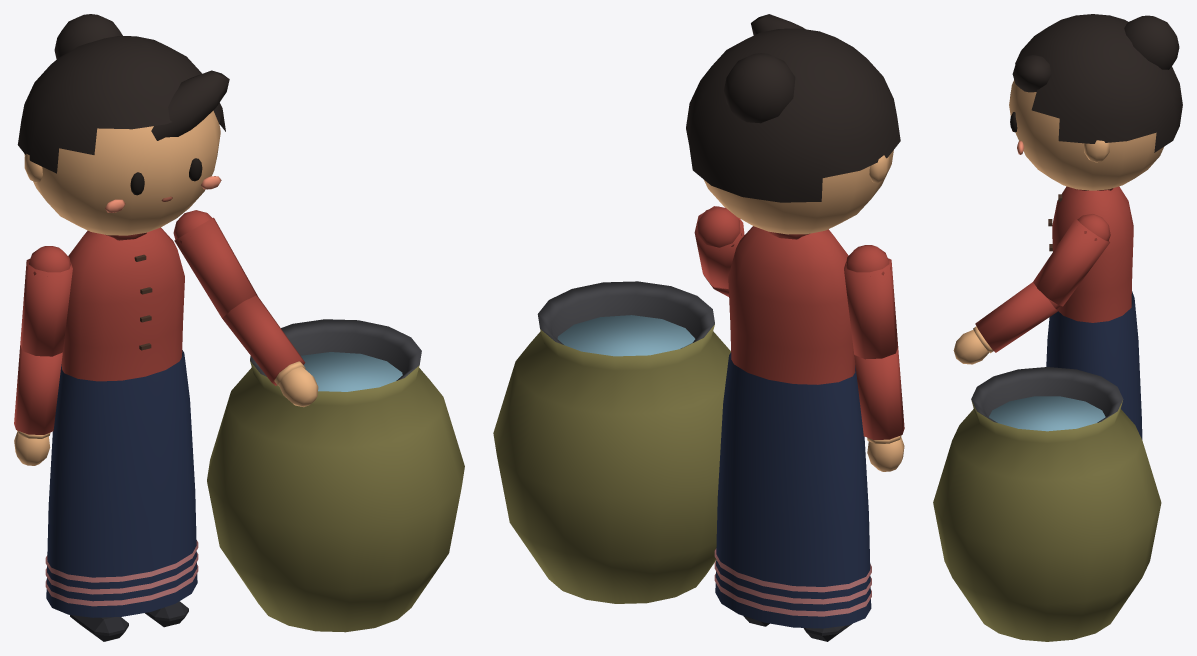
The model's file is west_water_jar_woman.glb.
3 renders of one model, left to right at view 1: azimuth 30°, elevation 25°; view 2: azimuth 150°, elevation 25°; view 3: azimuth 270°, elevation 25°, orthographic. The views are drawn at different scales.
Visible parts, largest first — view 1: prop_water_jar, body, head, arm_R, forearm_L, arm_L, forearm_R, shin_R, shin_L; view 2: prop_water_jar, body, head, arm_R, forearm_R, arm_L; view 3: prop_water_jar, head, body, arm_L, forearm_L.
Boxes of the visible parts, x1,y1,x2,y2 form: prop_water_jar: (207, 319, 464, 632); body: (45, 227, 198, 617); head: (17, 14, 229, 235); arm_R: (20, 246, 72, 356); forearm_L: (222, 295, 318, 407); arm_L: (173, 210, 257, 317); forearm_R: (14, 345, 62, 465); shin_R: (70, 615, 128, 641); shin_L: (145, 601, 188, 627); prop_water_jar: (493, 281, 730, 603); body: (714, 226, 871, 628); head: (686, 14, 900, 234); arm_R: (844, 245, 898, 359); forearm_R: (854, 347, 904, 471); arm_L: (694, 206, 744, 289); prop_water_jar: (933, 367, 1161, 641); head: (1009, 14, 1182, 190); body: (1046, 186, 1142, 439); arm_L: (1033, 214, 1110, 309); forearm_L: (953, 282, 1060, 364).
Size of the model in its own units: 1.08 by 1.49 by 0.6563.
